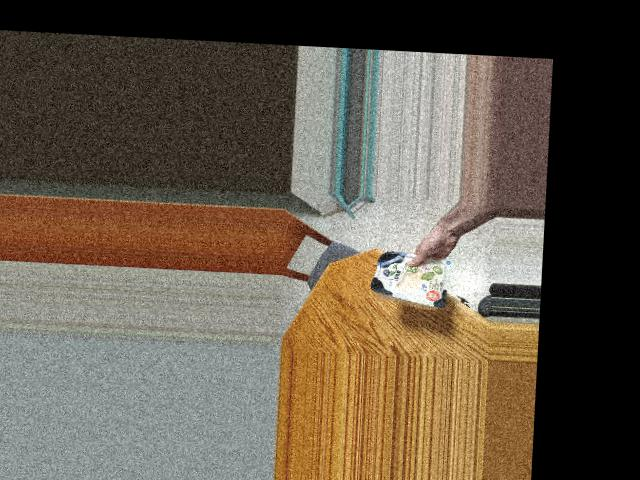cheese: (370, 248, 450, 309)
